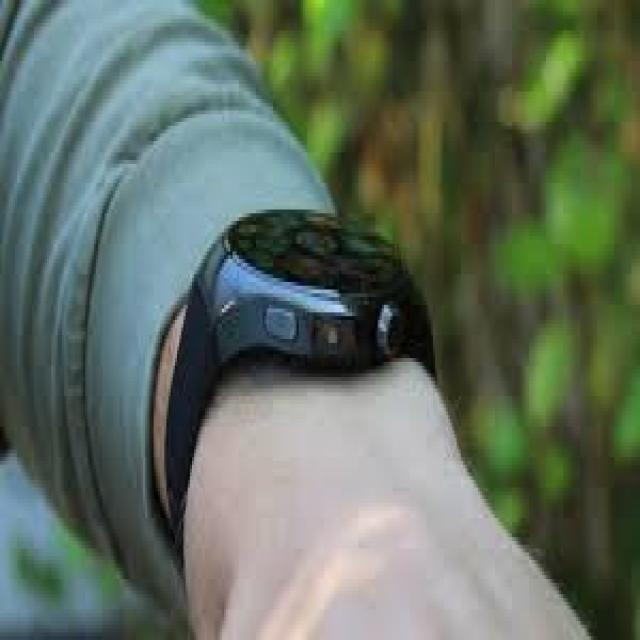objects: (146, 190, 439, 477)
